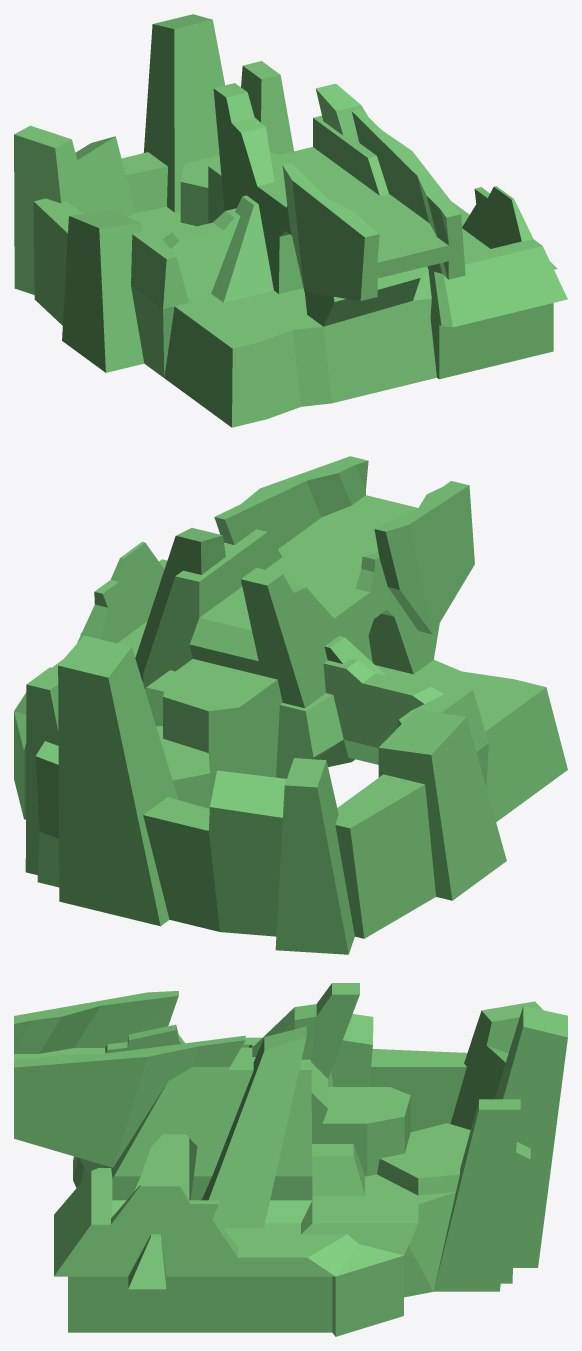
File: x_skala_dont_crash_72_krishka_part1_B2_1_rmstrd.fbx
3 views of the same model, one above another, from view 1: azimuth 30°, elevation 25°; view 2: azimuth 150°, elevation 25°; view 3: azimuth 270°, elevation 25° (orthographic). The views are drawn at different scales.
Parts seen in each view (by area): view 1: x_skala_dont_crash_72_krishka_part1_B2_1_rmstrd1; view 2: x_skala_dont_crash_72_krishka_part1_B2_1_rmstrd1; view 3: x_skala_dont_crash_72_krishka_part1_B2_1_rmstrd1.
Part boxes in pixels (bbox=[...]): x_skala_dont_crash_72_krishka_part1_B2_1_rmstrd1: bbox=[14, 14, 567, 427]; x_skala_dont_crash_72_krishka_part1_B2_1_rmstrd1: bbox=[14, 456, 567, 954]; x_skala_dont_crash_72_krishka_part1_B2_1_rmstrd1: bbox=[14, 983, 567, 1336].
Bounding box in the file's own units: 12.94 × 6.88 × 14.5.
